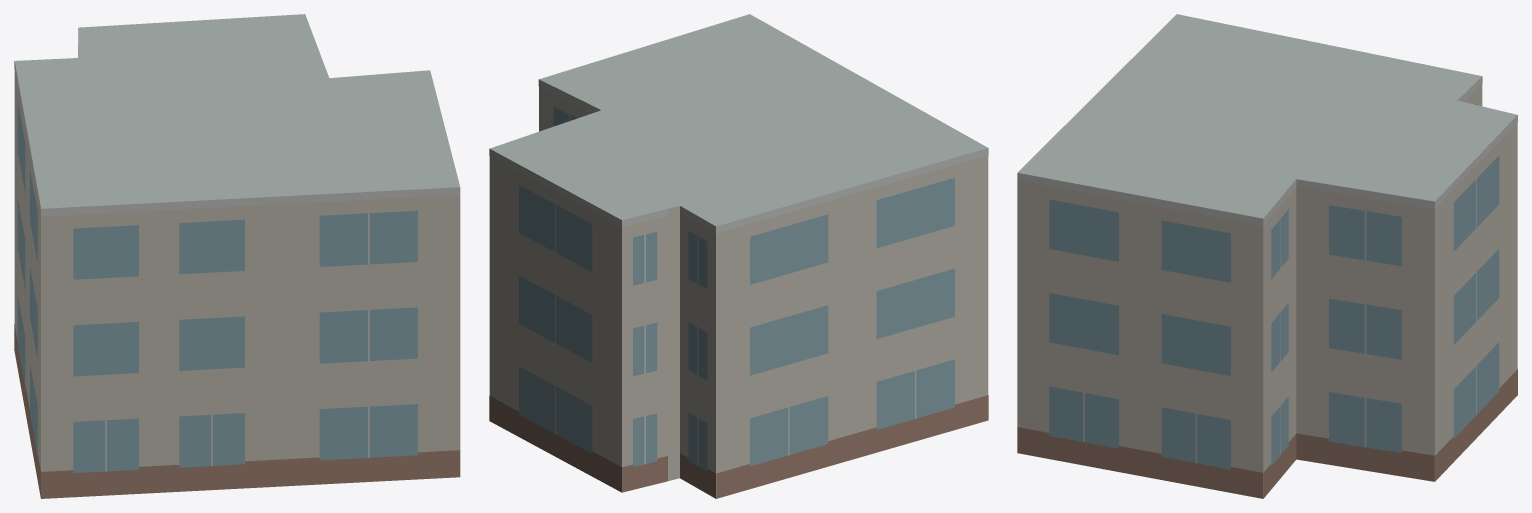
The model's file is survey-upis-32847500.glb.
3 renders of one model, left to right at view 1: azimuth 30°, elevation 25°; view 2: azimuth 150°, elevation 25°; view 3: azimuth 270°, elevation 25°, orthographic. The views are drawn at different scales.
Visible parts, largest first — view 1: survey-upis-32847500.tmp; view 2: survey-upis-32847500.tmp; view 3: survey-upis-32847500.tmp.
Part boxes in pixels (bbox=[...]): survey-upis-32847500.tmp: bbox=[14, 14, 460, 498]; survey-upis-32847500.tmp: bbox=[489, 14, 988, 498]; survey-upis-32847500.tmp: bbox=[1017, 14, 1517, 498].
Bounding box in the file's own units: 14.33 × 9.15 × 14.82.
